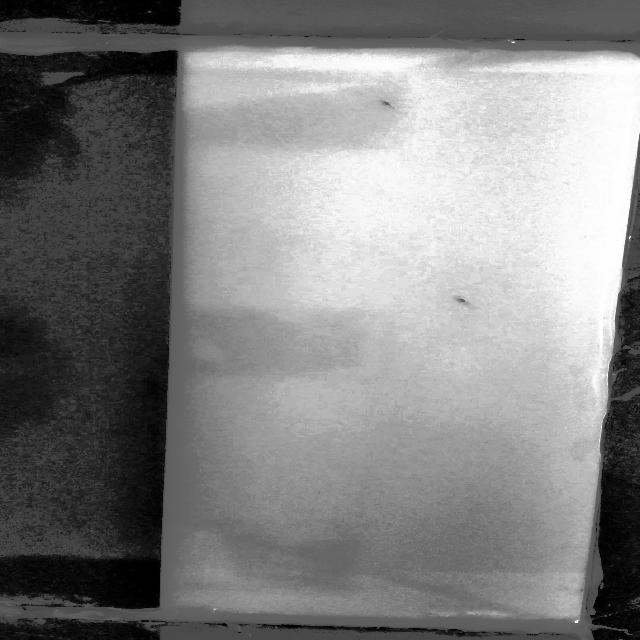shrimp: (448, 294, 478, 308), (379, 97, 393, 108)
